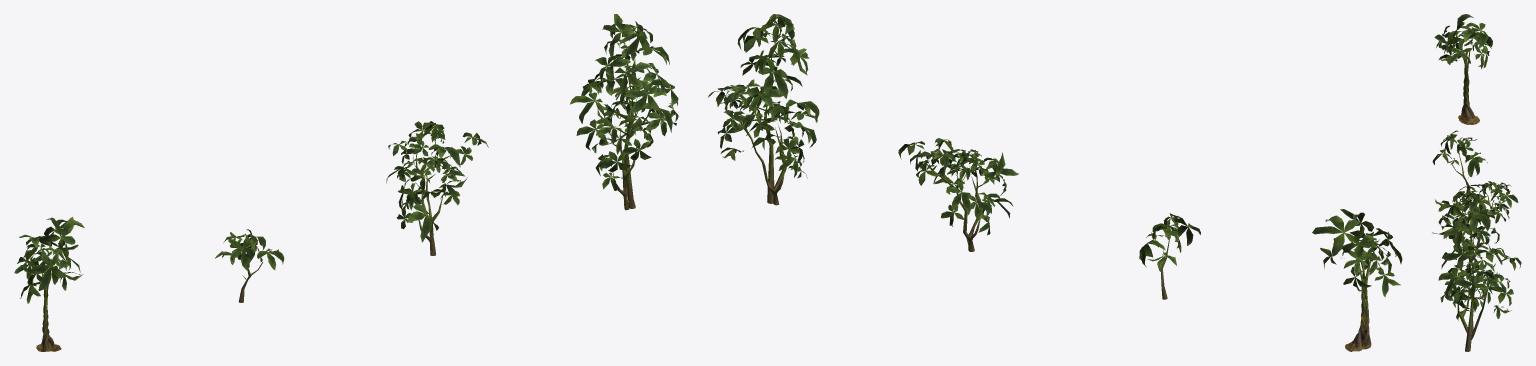
Rendered from pachira_aquatica_01.glb.
The picture shows the model from 3 angles, left to right: view 1: azimuth 30°, elevation 25°; view 2: azimuth 150°, elevation 25°; view 3: azimuth 270°, elevation 25°; orthographic projection. The views are drawn at different scales.
Visible parts, largest first — view 1: pachira_aquatica_01_leaves_d, pachira_aquatica_01_leaves_c, pachira_aquatica_01_leaves_a, pachira_aquatica_01_leaves_b, pachira_aquatica_01_bark_d, pachira_aquatica_01_bark_a, pachira_aquatica_01_bark_c; view 2: pachira_aquatica_01_leaves_d, pachira_aquatica_01_leaves_c, pachira_aquatica_01_leaves_a, pachira_aquatica_01_leaves_b, pachira_aquatica_01_bark_d, pachira_aquatica_01_bark_a, pachira_aquatica_01_bark_c; view 3: pachira_aquatica_01_leaves_d, pachira_aquatica_01_leaves_c, pachira_aquatica_01_leaves_a, pachira_aquatica_01_leaves_b, pachira_aquatica_01_bark_d, pachira_aquatica_01_bark_a, pachira_aquatica_01_bark_c, pachira_aquatica_01_bark_b.
Part boxes in pixels (x1=…): pachira_aquatica_01_leaves_d: x1=570, y1=14, x2=678, y2=190; pachira_aquatica_01_leaves_c: x1=386, y1=121, x2=488, y2=242; pachira_aquatica_01_leaves_a: x1=14, y1=217, x2=84, y2=303; pachira_aquatica_01_leaves_b: x1=215, y1=229, x2=284, y2=279; pachira_aquatica_01_bark_d: x1=598, y1=45, x2=651, y2=210; pachira_aquatica_01_bark_a: x1=36, y1=264, x2=61, y2=351; pachira_aquatica_01_bark_c: x1=413, y1=141, x2=450, y2=255; pachira_aquatica_01_leaves_d: x1=708, y1=14, x2=819, y2=178; pachira_aquatica_01_leaves_c: x1=898, y1=138, x2=1018, y2=235; pachira_aquatica_01_leaves_a: x1=1312, y1=209, x2=1402, y2=297; pachira_aquatica_01_leaves_b: x1=1139, y1=213, x2=1200, y2=274; pachira_aquatica_01_bark_d: x1=732, y1=55, x2=790, y2=205; pachira_aquatica_01_bark_a: x1=1345, y1=259, x2=1371, y2=351; pachira_aquatica_01_bark_c: x1=925, y1=160, x2=985, y2=251; pachira_aquatica_01_leaves_d: x1=1432, y1=191, x2=1521, y2=320; pachira_aquatica_01_leaves_c: x1=1435, y1=181, x2=1518, y2=244; pachira_aquatica_01_leaves_a: x1=1434, y1=14, x2=1492, y2=68; pachira_aquatica_01_leaves_b: x1=1432, y1=130, x2=1487, y2=177; pachira_aquatica_01_bark_d: x1=1457, y1=219, x2=1495, y2=351; pachira_aquatica_01_bark_a: x1=1458, y1=48, x2=1479, y2=124; pachira_aquatica_01_bark_c: x1=1456, y1=194, x2=1499, y2=268; pachira_aquatica_01_bark_b: x1=1452, y1=151, x2=1470, y2=194.
Bounding box in the file's own units: 7.93 × 2.2 × 1.15.
2 materials, 2 textured.
